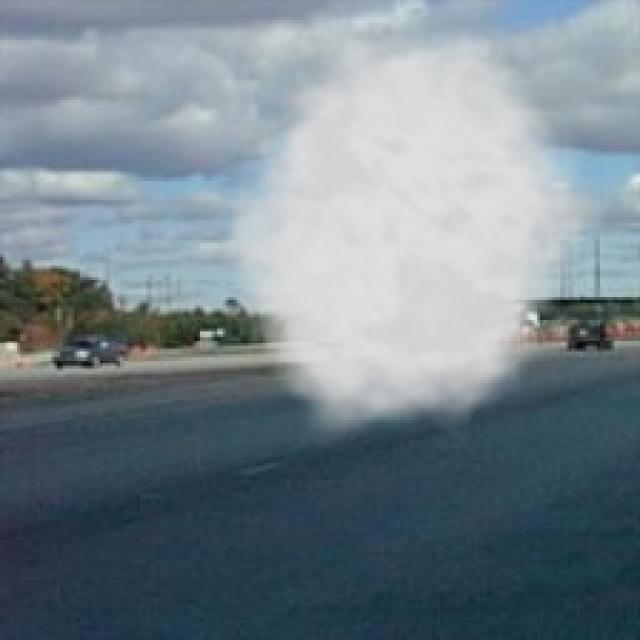smoke: (214, 23, 603, 448)
